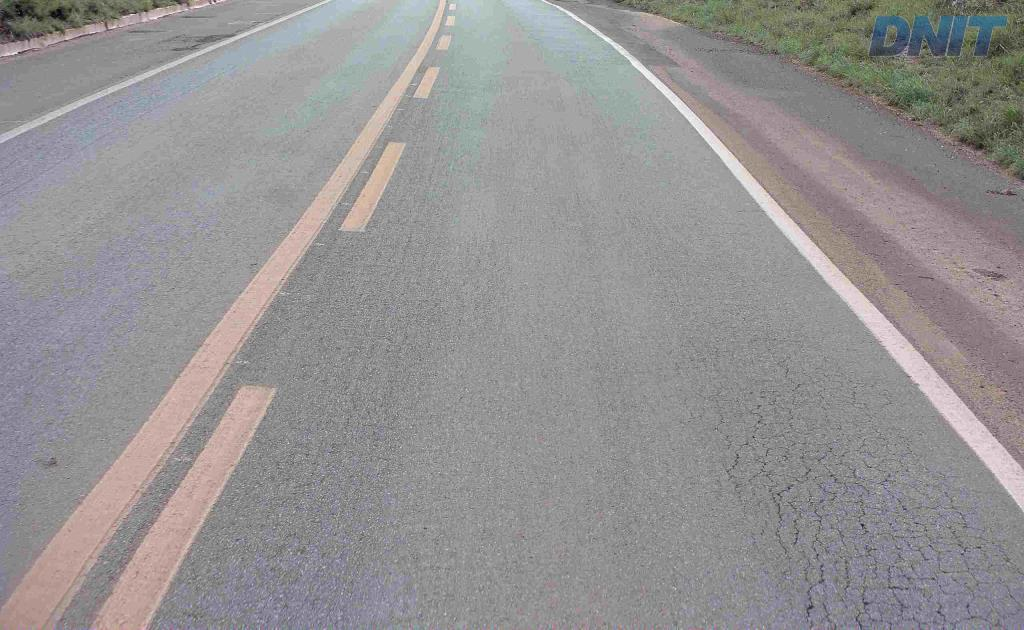crack: (882, 546, 927, 629), (783, 487, 833, 561), (763, 476, 803, 554), (851, 491, 880, 579), (850, 572, 884, 629), (803, 558, 827, 622)
